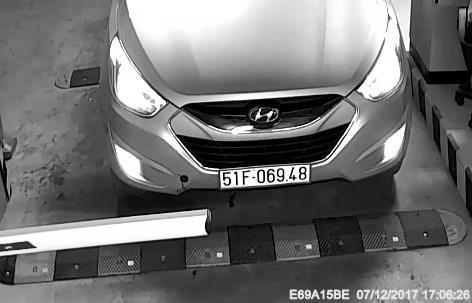License-plate: (217, 162, 325, 192)
